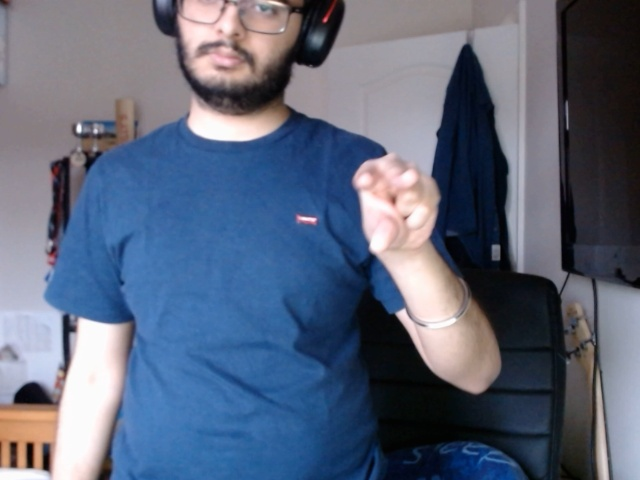No: (339, 149, 454, 269)
